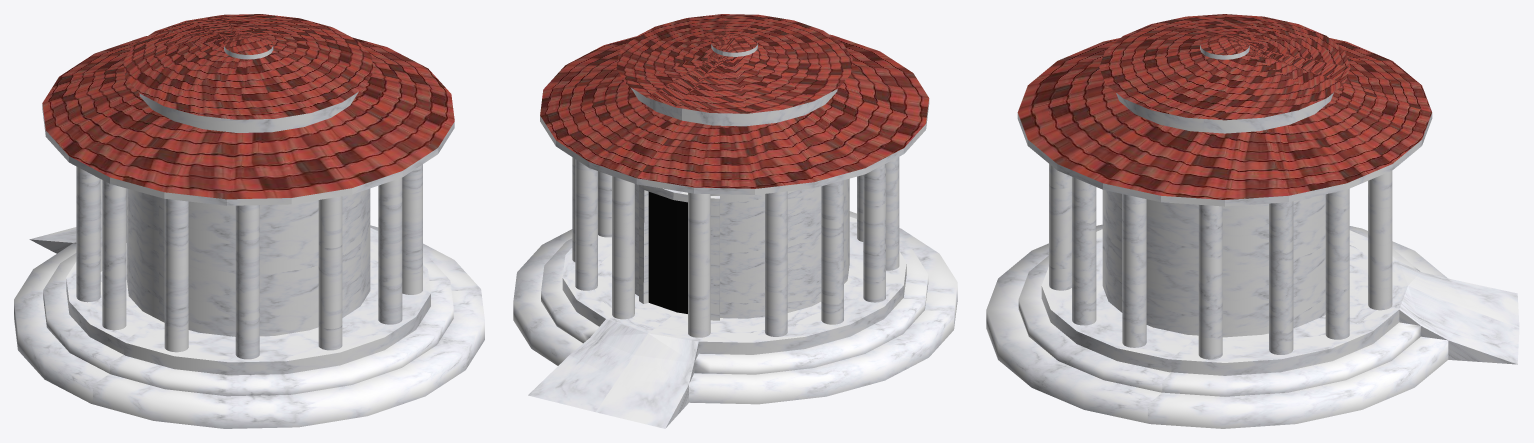
File: Temple.obj
3 renders of one model, left to right at view 1: azimuth 30°, elevation 25°; view 2: azimuth 150°, elevation 25°; view 3: azimuth 270°, elevation 25°, orthographic. The views are drawn at different scales.
Parts seen in each view (by area): view 1: pCylinder3; view 2: pCylinder3; view 3: pCylinder3.
Part boxes in pixels (x1,y1,x2,y2): pCylinder3: [14, 14, 484, 428]; pCylinder3: [513, 14, 957, 428]; pCylinder3: [986, 14, 1519, 428].
Size of the model in its own units: 576 by 390 by 649.
3 materials, 2 textured.
